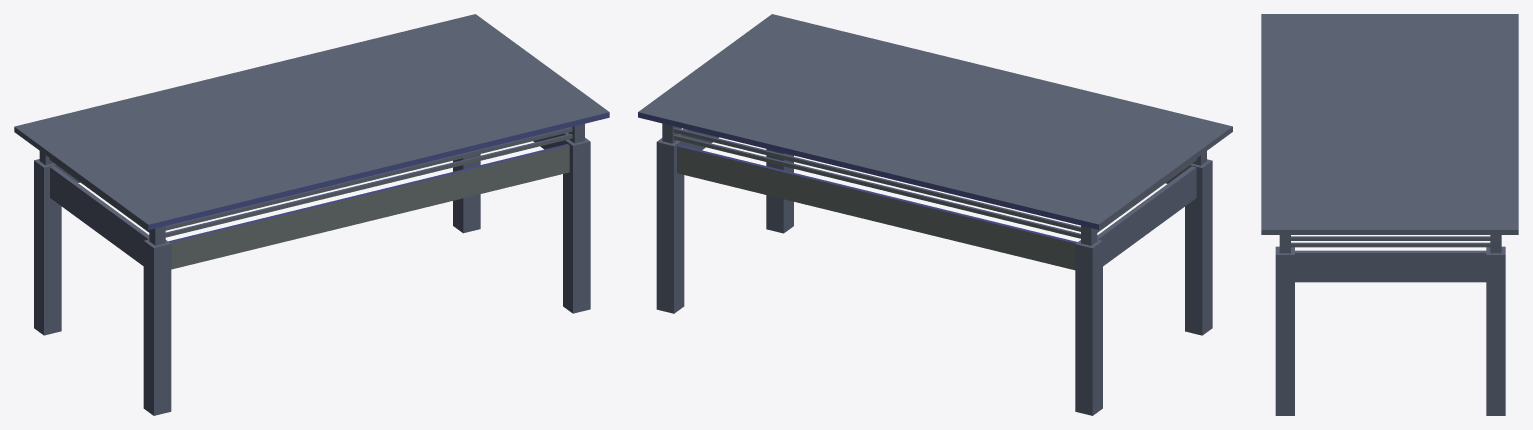
Rendered from dining table A.fbx.
3 renders of one model, left to right at view 1: azimuth 30°, elevation 25°; view 2: azimuth 150°, elevation 25°; view 3: azimuth 270°, elevation 25°, orthographic. The views are drawn at different scales.
Visible parts, largest first — view 1: dining table A; view 2: dining table A; view 3: dining table A.
Part boxes in pixels (bbox=[...]): dining table A: bbox=[14, 14, 609, 415]; dining table A: bbox=[638, 14, 1232, 415]; dining table A: bbox=[1261, 14, 1518, 415].
Bounding box in the file's own units: 196 × 81.3 × 99.
